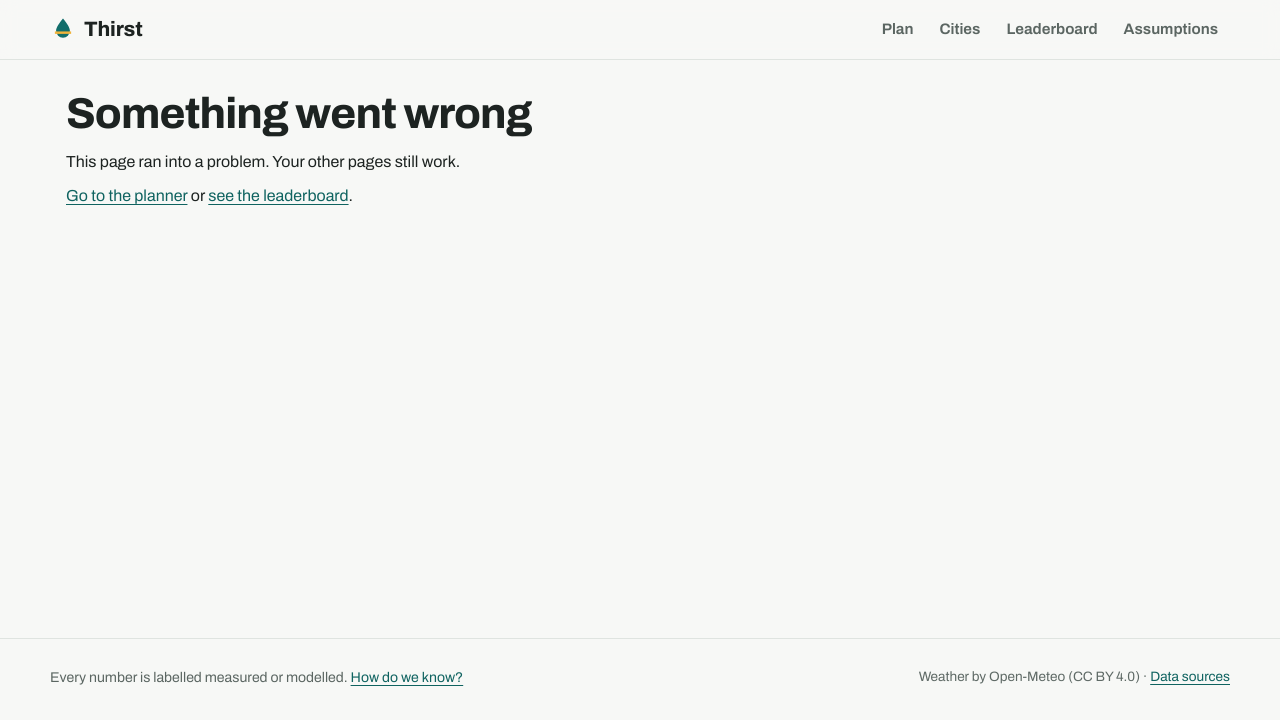
Test: a page that crashes › keeps the navigation, so the person can leave the broken page
Check: the heading "Something went wrong" is shown, box [66,90,532,137]
Click the link "Leaderboard": [1052, 29] box [1006,21,1098,37]
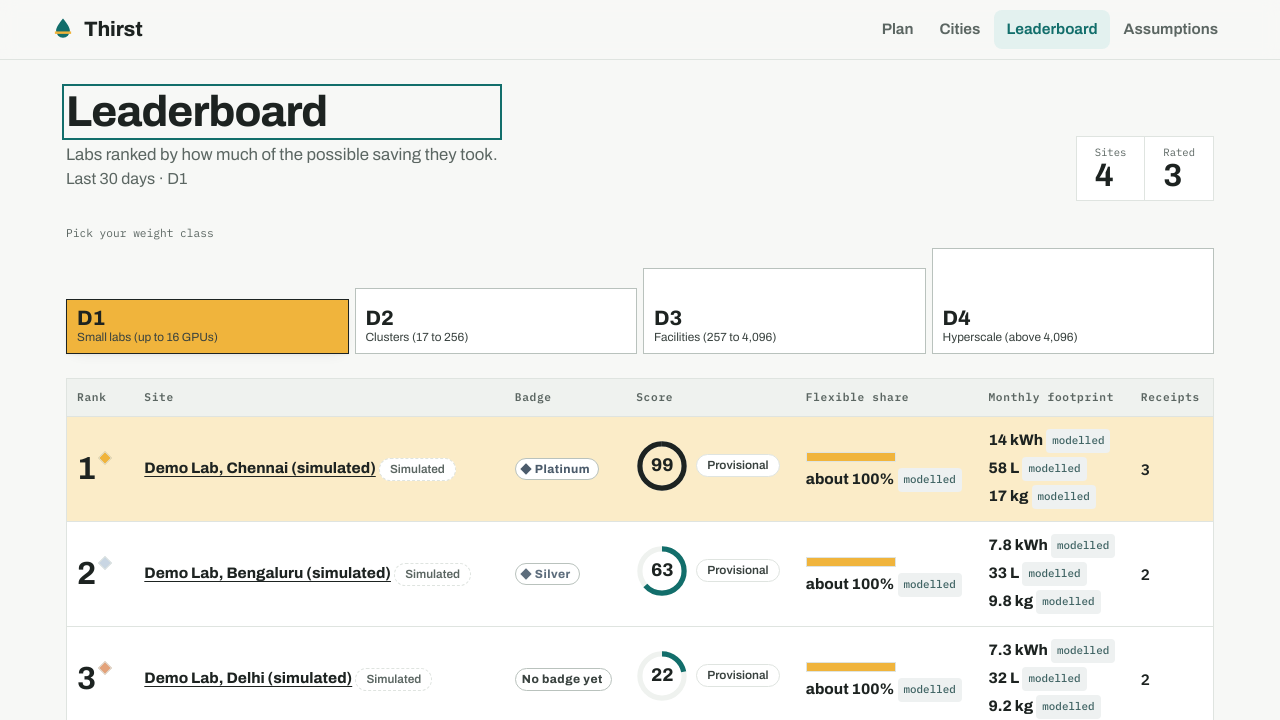
Check: the heading "Leaderboard" is shown, box [66,88,327,135]
